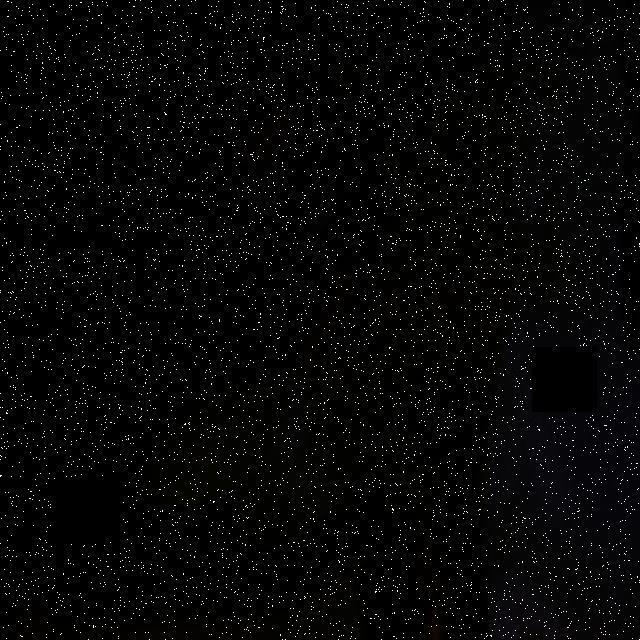egg: (94, 240, 300, 509)
